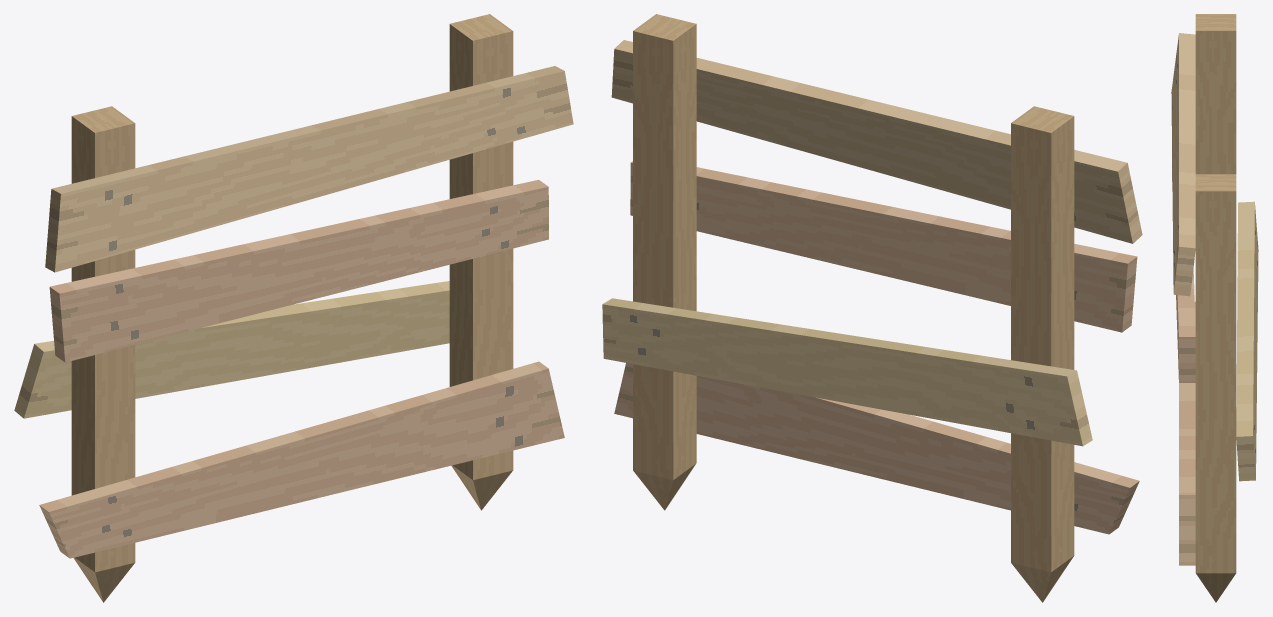
The model's file is 00e2_Wooden_Fence.glb.
3 renders of one model, left to right at view 1: azimuth 30°, elevation 25°; view 2: azimuth 150°, elevation 25°; view 3: azimuth 270°, elevation 25°, orthographic. The views are drawn at different scales.
Visible parts, largest first — view 1: part_0; view 2: part_0; view 3: part_0.
Boxes of the visible parts, left/top/right/bottom form: part_0: left=14, top=14, right=573, bottom=602; part_0: left=602, top=14, right=1142, bottom=602; part_0: left=1171, top=14, right=1258, bottom=602.
Size of the model in its own units: 1.24 by 1.1 by 0.2065.
1 material, 1 textured.
